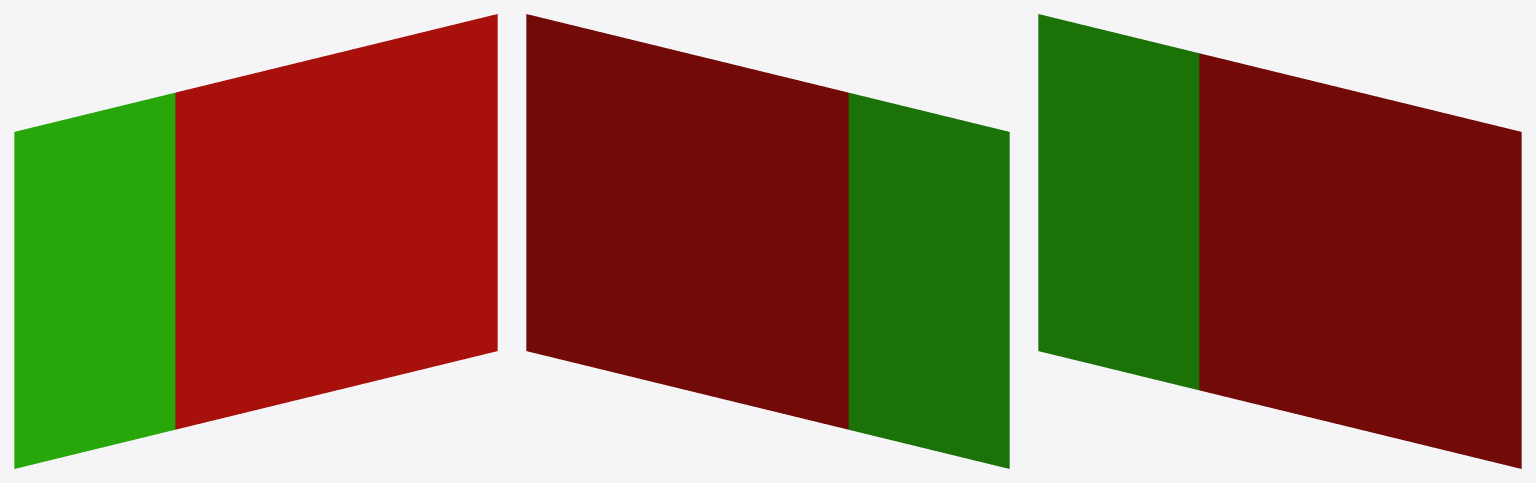
File: multimat_test.fbx
3 renders of one model, left to right at view 1: azimuth 30°, elevation 25°; view 2: azimuth 150°, elevation 25°; view 3: azimuth 330°, elevation 25°, orthographic.
Visible parts, largest first — view 1: Object1, Object2; view 2: Object1, Object2; view 3: Object1, Object2.
Boxes of the visible parts, left/top/right/bottom form: Object1: left=14, top=182, right=497, bottom=468; Object2: left=14, top=14, right=497, bottom=300; Object1: left=526, top=182, right=1009, bottom=468; Object2: left=526, top=14, right=1009, bottom=300; Object1: left=1038, top=182, right=1521, bottom=468; Object2: left=1038, top=14, right=1521, bottom=300.
Size of the model in its own units: 6 by 4 by 2.38e-07.
